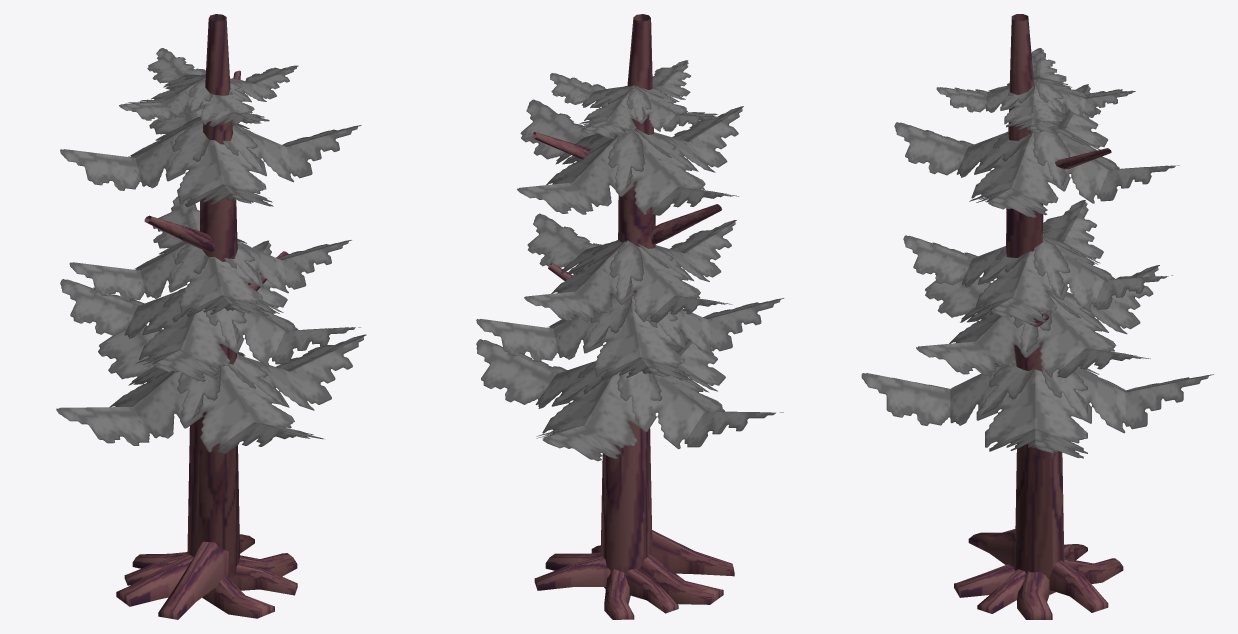
The model's file is Pinheiro.fbx.
The picture shows the model from 3 angles, left to right: view 1: azimuth 30°, elevation 25°; view 2: azimuth 150°, elevation 25°; view 3: azimuth 270°, elevation 25°; orthographic projection. The views are drawn at different scales.
Visible parts, largest first — view 1: Pinheiro; view 2: Pinheiro; view 3: Pinheiro.
Part boxes in pixels (x1,y1,x2,y2): Pinheiro: [56, 14, 366, 619]; Pinheiro: [476, 14, 784, 619]; Pinheiro: [861, 14, 1213, 619].
Size of the model in its own units: 569 by 569 by 966.
